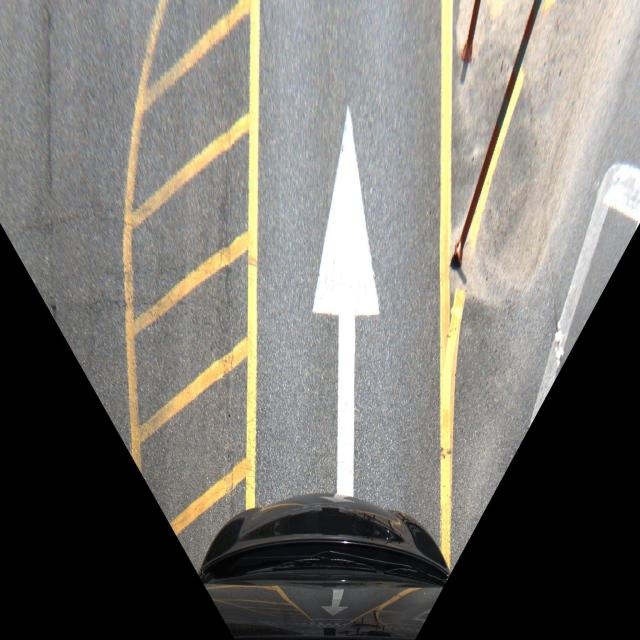forward: (298, 99, 401, 492)
